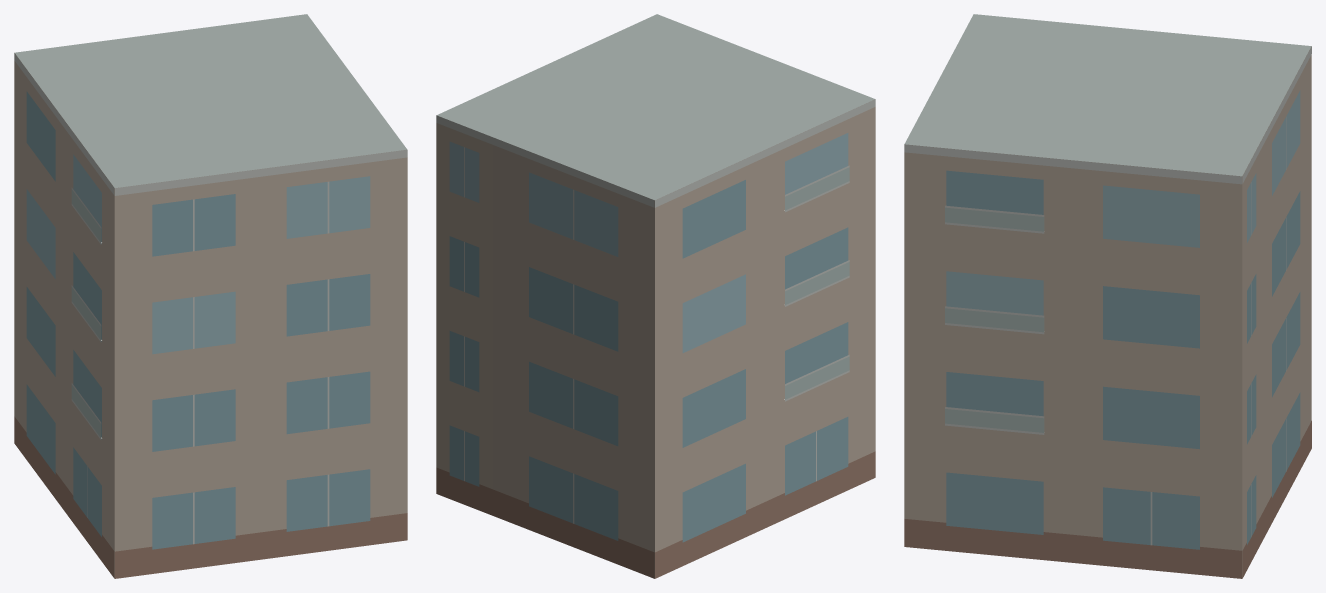
File: residential-51239d41-c0b9-4ee2-9b74-0600e9cc4267.glb
3 views of the same model, side by side, from view 1: azimuth 30°, elevation 25°; view 2: azimuth 150°, elevation 25°; view 3: azimuth 270°, elevation 25° (orthographic). The views are drawn at different scales.
Parts seen in each view (by area): view 1: residential-51239d41-c0b9-4ee2-9b74-0600e9cc4267.tmp; view 2: residential-51239d41-c0b9-4ee2-9b74-0600e9cc4267.tmp; view 3: residential-51239d41-c0b9-4ee2-9b74-0600e9cc4267.tmp.
Boxes of the visible parts, x1=… form: residential-51239d41-c0b9-4ee2-9b74-0600e9cc4267.tmp: x1=14, y1=14, x2=407, y2=578; residential-51239d41-c0b9-4ee2-9b74-0600e9cc4267.tmp: x1=436, y1=14, x2=875, y2=578; residential-51239d41-c0b9-4ee2-9b74-0600e9cc4267.tmp: x1=904, y1=14, x2=1311, y2=578.
Bounding box in the file's own units: 10.56 × 12.2 × 11.2.
